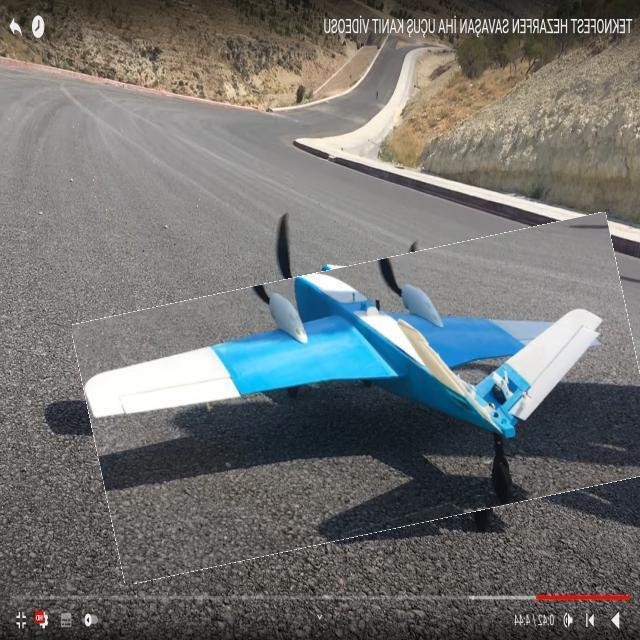iha: (86, 274, 600, 505)
